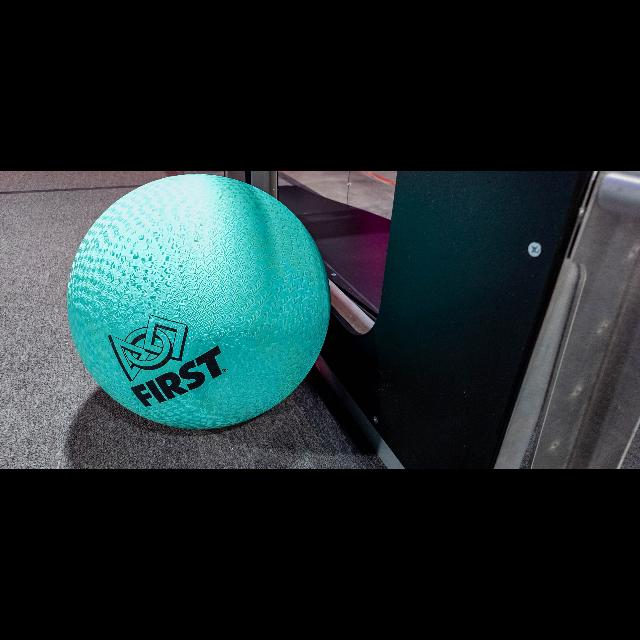ALGAE: (69, 176, 329, 430)
